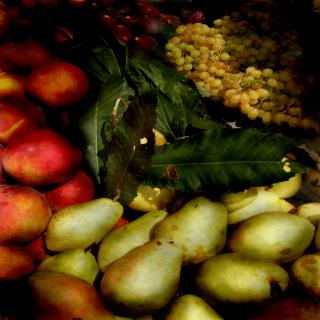Apple: (0, 0, 128, 279), (3, 127, 82, 186)
Pear: (33, 159, 320, 320), (136, 126, 170, 148)
